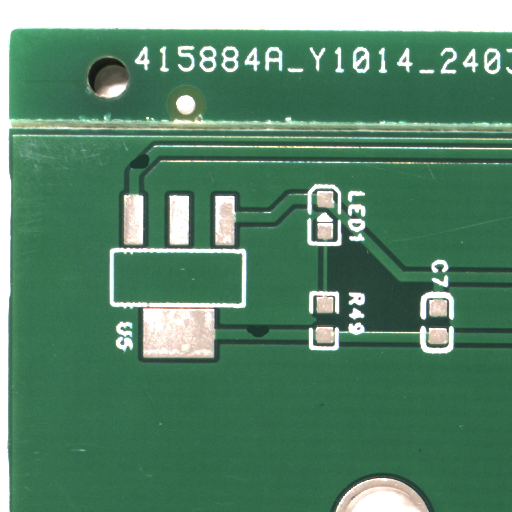Mouse_bite: (258, 329, 287, 347), (138, 160, 165, 179)
